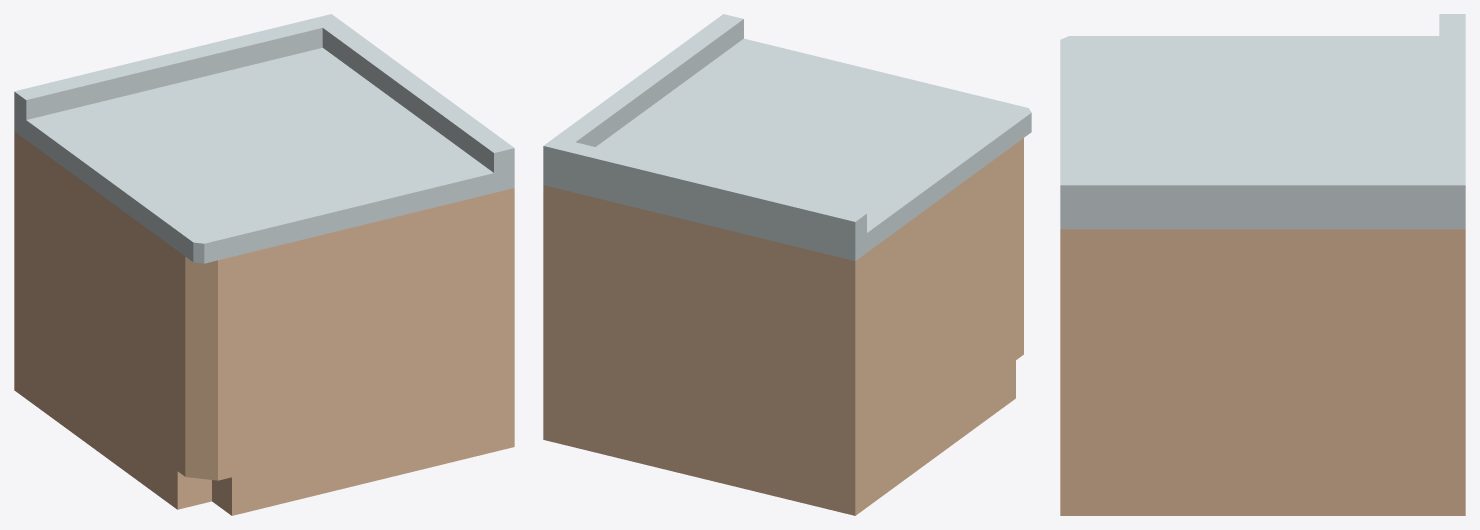
The model's file is kitchenCabinetCornerInner-col.glb.
3 renders of one model, left to right at view 1: azimuth 30°, elevation 25°; view 2: azimuth 150°, elevation 25°; view 3: azimuth 270°, elevation 25°, orthographic. The views are drawn at different scales.
Visible parts, largest first — view 1: kitchenCabinetCornerInner-col; view 2: kitchenCabinetCornerInner-col; view 3: kitchenCabinetCornerInner-col.
Boxes of the visible parts, x1,y1,x2,y2 form: kitchenCabinetCornerInner-col: (14, 14, 514, 515); kitchenCabinetCornerInner-col: (543, 14, 1031, 515); kitchenCabinetCornerInner-col: (1060, 14, 1465, 515).
Bounding box in the file's own units: 0.5 × 0.45 × 0.5.
